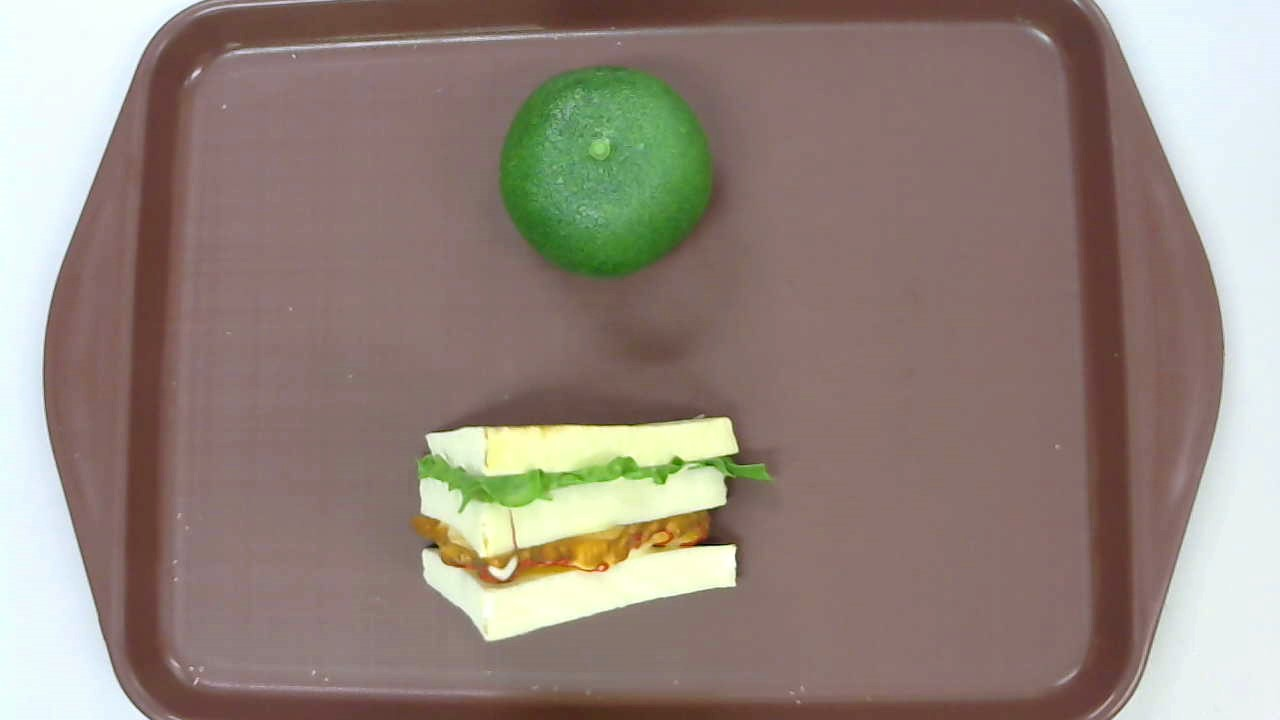green orange: (501, 65, 713, 276)
sandwich: (411, 410, 777, 644)
